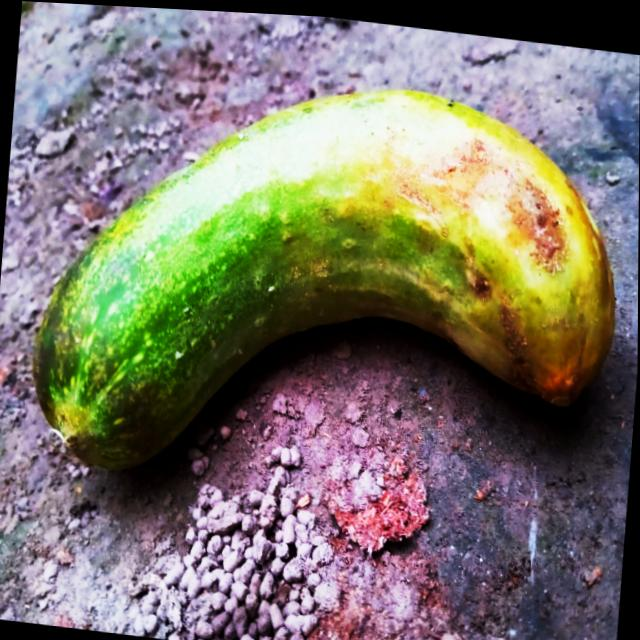Belly-Rot: (390, 117, 577, 272), (444, 263, 553, 388)
